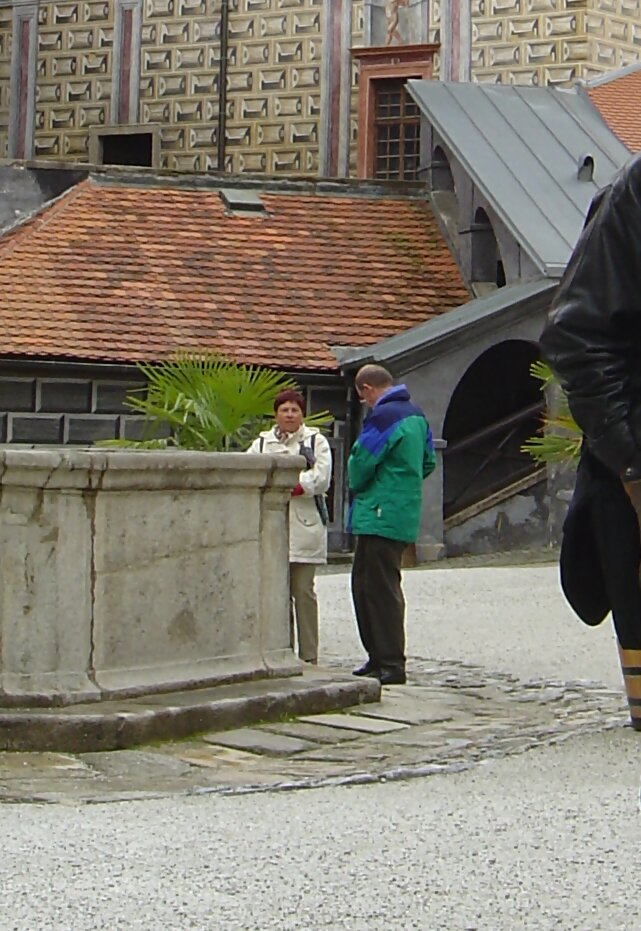person: (546, 132, 641, 736), (338, 363, 447, 693), (244, 392, 338, 659)
